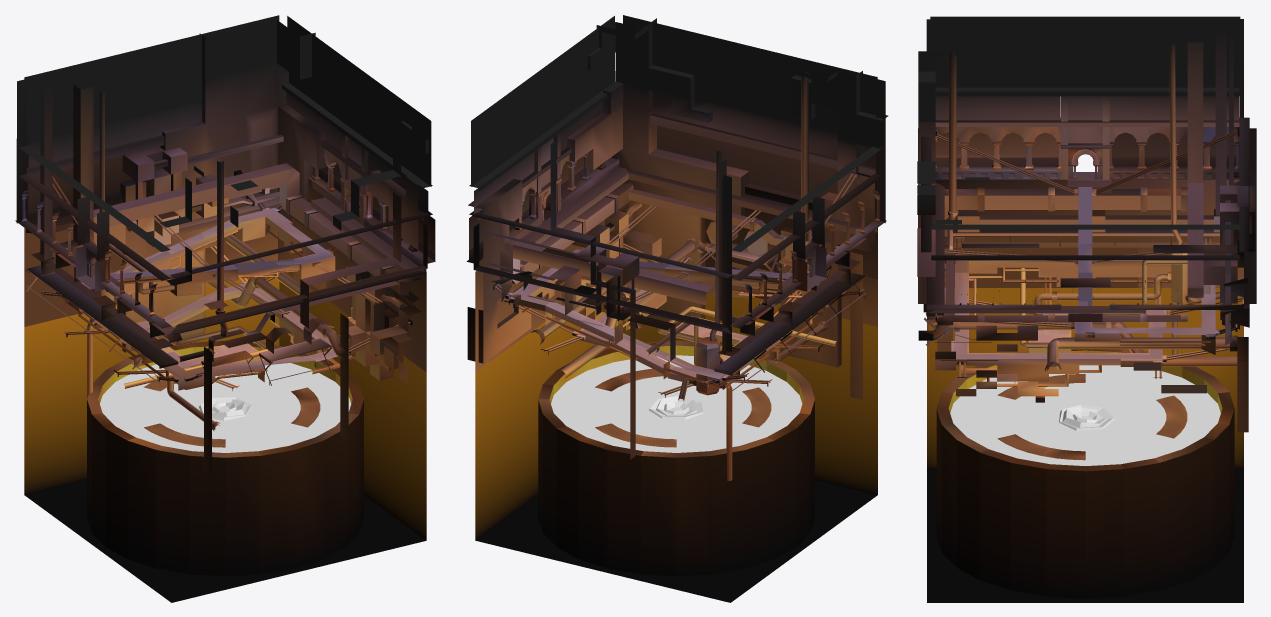
File: 01Opening.gltf
3 views of the same model, side by side, from view 1: azimuth 30°, elevation 25°; view 2: azimuth 150°, elevation 25°; view 3: azimuth 270°, elevation 25° (orthographic). The views are drawn at different scales.
Parts seen in each view (by area): view 1: stg031_o35_Mesh_0022, stg031_o35_Mesh_0016, stg031_o35_Mesh_0003, stg031_o35_Mesh_0063, stg030_surface_35_Mesh_0000, stg031_o35_Mesh_0047, stg031_o35_Mesh_0077, stg031_o35_Mesh_0066, stg031_o35_Mesh_0020, stg031_o35_Mesh_0041, stg031_o35_Mesh_0037, stg031_o35_Mesh_0056 (+13 smaller); view 2: stg031_o35_Mesh_0022, stg031_o35_Mesh_0003, stg031_o35_Mesh_0016, stg031_o35_Mesh_0063, stg030_surface_35_Mesh_0000, stg031_o35_Mesh_0047, stg031_o35_Mesh_0077, stg031_o35_Mesh_0020, stg031_o35_Mesh_0066, stg031_o35_Mesh_0041, stg031_o35_Mesh_0058, stg031_o35_Mesh_0028 (+13 smaller); view 3: stg031_o35_Mesh_0022, stg031_o35_Mesh_0063, stg030_surface_35_Mesh_0000, stg031_o35_Mesh_0016, stg031_o35_Mesh_0047, stg031_o35_Mesh_0020, stg031_o35_Mesh_0077, stg031_o35_Mesh_0066, stg031_o35_Mesh_0003, stg031_o35_Mesh_0056, stg031_o35_Mesh_0075, stg031_o35_Mesh_0028 (+17 smaller).
Boxes of the visible parts, x1,y1,x2,y2 form: stg031_o35_Mesh_0022: [87, 340, 363, 576]; stg031_o35_Mesh_0016: [24, 270, 426, 602]; stg031_o35_Mesh_0003: [93, 19, 428, 446]; stg031_o35_Mesh_0063: [28, 16, 431, 186]; stg030_surface_35_Mesh_0000: [100, 359, 351, 452]; stg031_o35_Mesh_0047: [15, 15, 435, 328]; stg031_o35_Mesh_0077: [42, 84, 421, 362]; stg031_o35_Mesh_0066: [26, 80, 419, 390]; stg031_o35_Mesh_0020: [25, 91, 350, 429]; stg031_o35_Mesh_0041: [122, 146, 421, 383]; stg031_o35_Mesh_0037: [29, 120, 340, 390]; stg031_o35_Mesh_0056: [24, 186, 426, 372]; stg031_o35_Mesh_0022: [538, 340, 814, 576]; stg031_o35_Mesh_0003: [467, 18, 888, 446]; stg031_o35_Mesh_0016: [475, 294, 877, 602]; stg031_o35_Mesh_0063: [471, 16, 873, 186]; stg030_surface_35_Mesh_0000: [551, 355, 802, 452]; stg031_o35_Mesh_0047: [466, 15, 886, 328]; stg031_o35_Mesh_0077: [500, 159, 866, 399]; stg031_o35_Mesh_0020: [517, 70, 867, 480]; stg031_o35_Mesh_0066: [486, 172, 865, 397]; stg031_o35_Mesh_0041: [537, 210, 671, 373]; stg031_o35_Mesh_0058: [657, 125, 837, 197]; stg031_o35_Mesh_0028: [519, 175, 875, 459]; stg031_o35_Mesh_0022: [936, 349, 1234, 598]; stg031_o35_Mesh_0063: [930, 16, 1240, 87]; stg030_surface_35_Mesh_0000: [950, 365, 1220, 465]; stg031_o35_Mesh_0016: [927, 288, 1243, 602]; stg031_o35_Mesh_0047: [918, 19, 1256, 309]; stg031_o35_Mesh_0020: [918, 43, 1237, 386]; stg031_o35_Mesh_0077: [937, 42, 1203, 351]; stg031_o35_Mesh_0066: [927, 26, 1255, 396]; stg031_o35_Mesh_0003: [917, 51, 1248, 459]; stg031_o35_Mesh_0056: [935, 179, 1243, 287]; stg031_o35_Mesh_0075: [935, 96, 1238, 120]; stg031_o35_Mesh_0028: [927, 187, 1248, 460].
Bounding box in the file's own units: 101 × 141 × 96.33.
